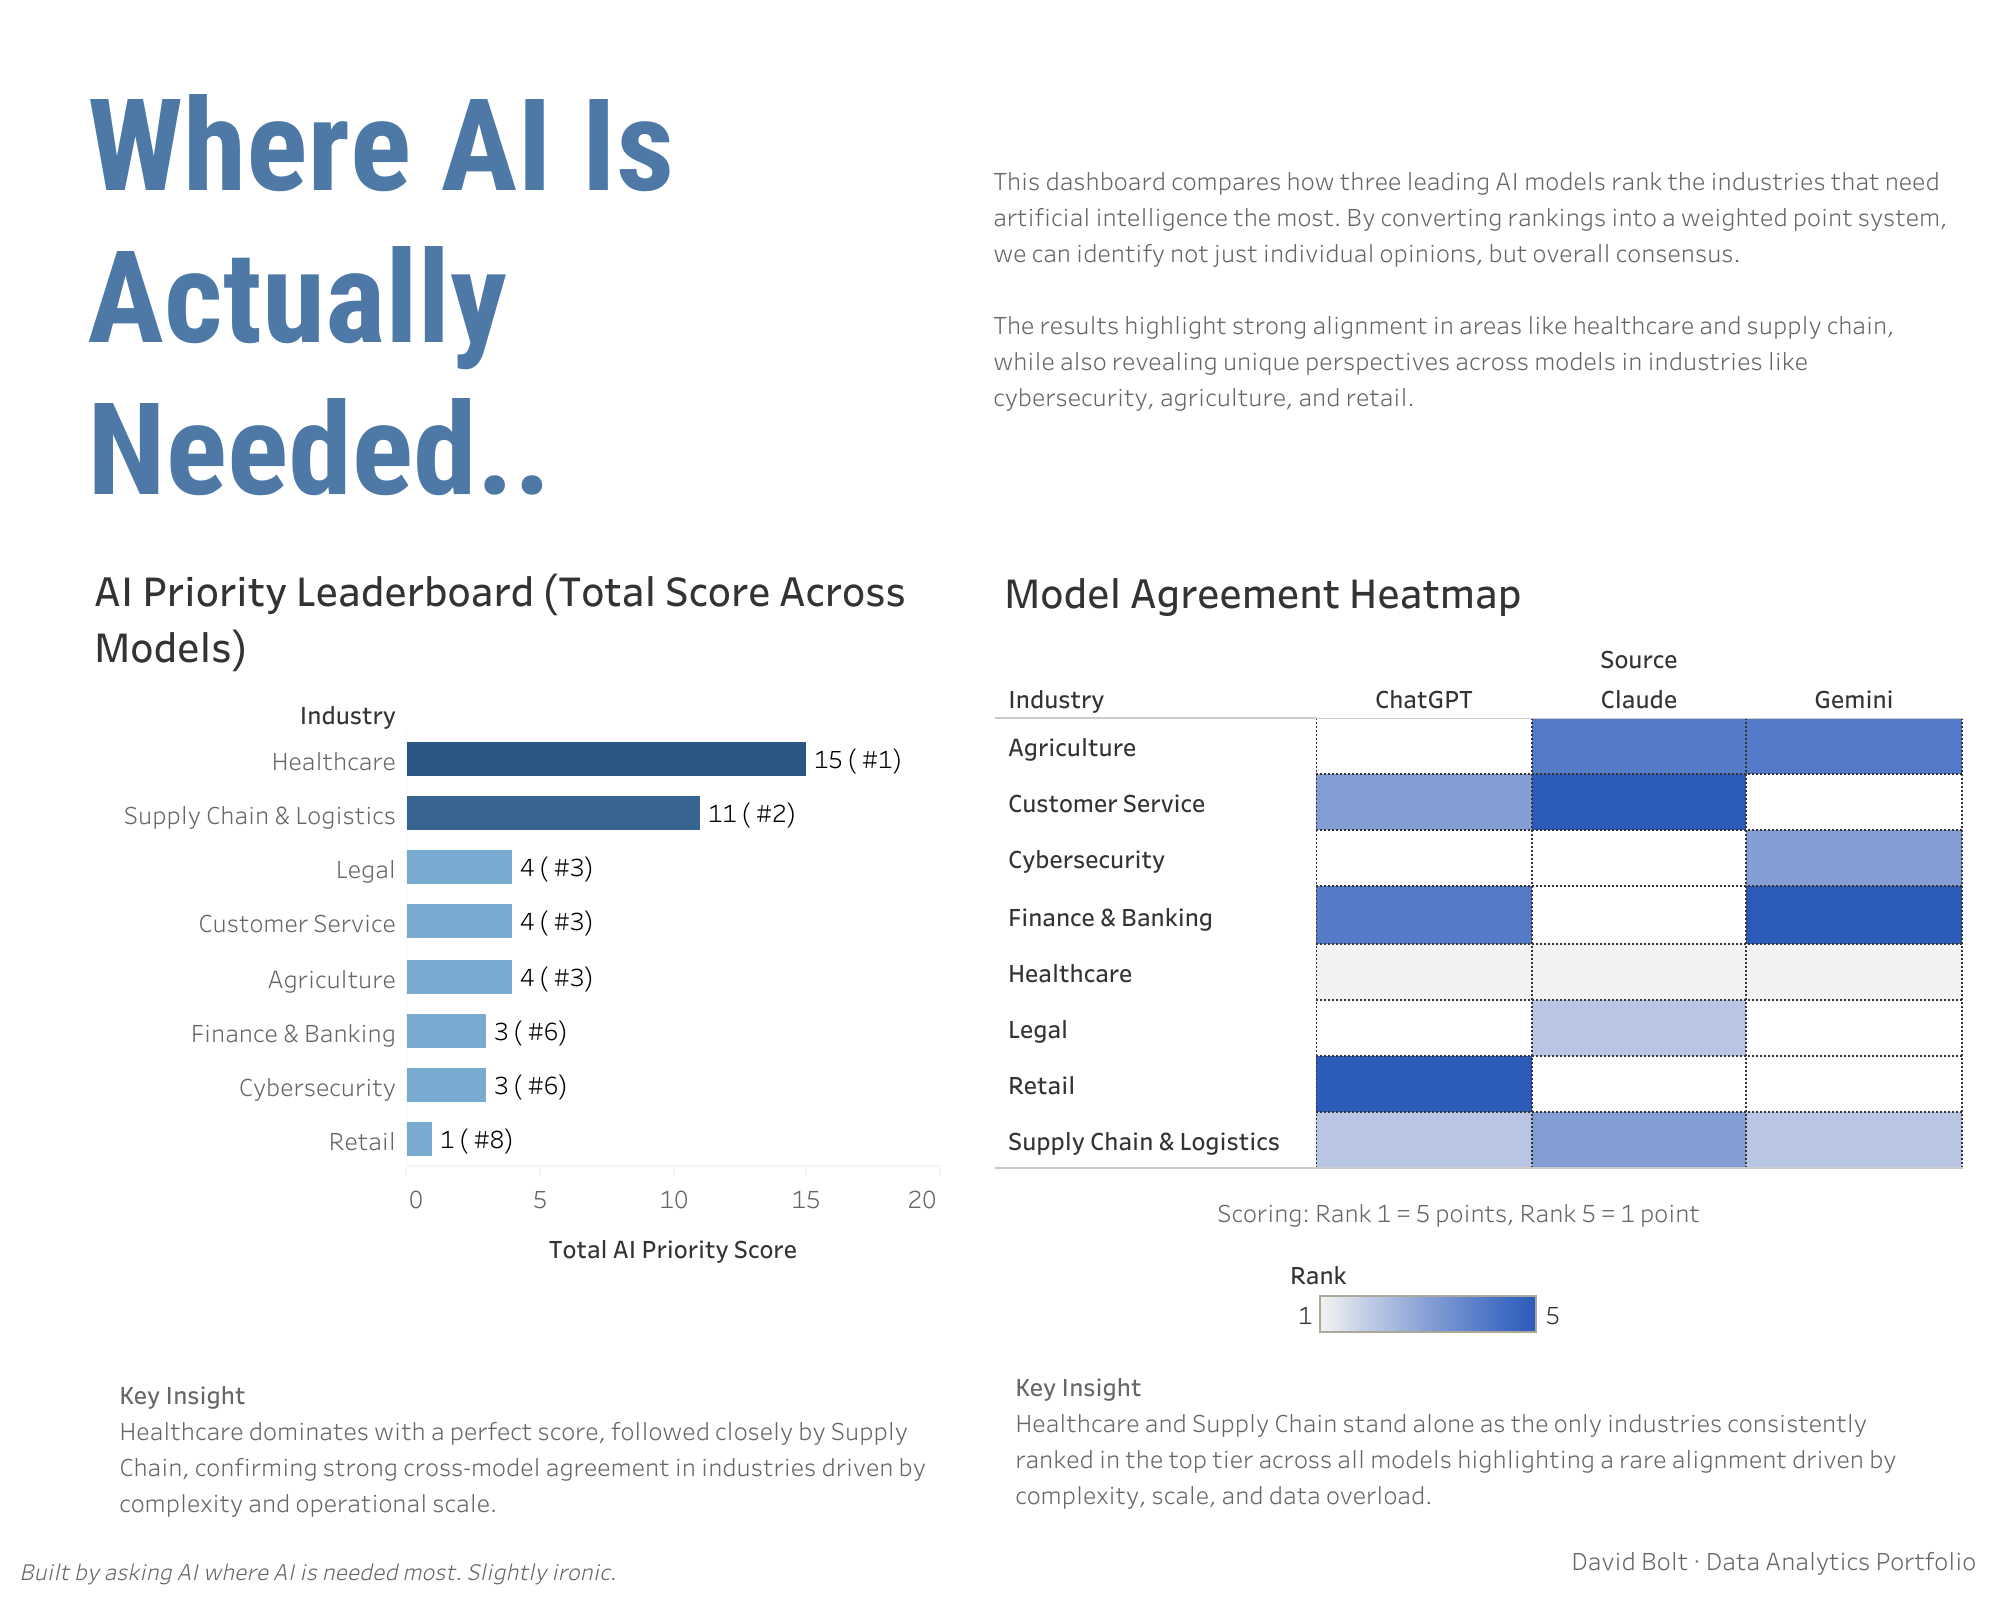

The dashboard page shown, as its layout file describes it:
{"tool":"tableau","page":{"name":"Dashboard 1","canvas":[1000,800],"ordinal":0},"visuals":[{"type":"text","box":[41,27,420,244]},{"type":"text","box":[494,36,483,216]},{"type":"worksheet","title":"bar chart","mark":"Bar","rows":["Industry"],"cols":["Points"],"box":[43,275,427,365]},{"type":"worksheet","title":"heat map","mark":"Automatic","rows":["Industry"],"cols":["Source"],"box":[498,276,484,309]},{"type":"text","box":[606,591,247,30]},{"type":"legend","title":"heat map","param":"[federated.0vanhe00ep28cu17hupwt1uz055i].[sum:Rank:qk]","box":[645,624,140,50]},{"type":"text","box":[505,666,459,108]},{"type":"text","box":[57,686,421,76]},{"type":"text","box":[783,765,208,30]},{"type":"text","box":[7,770,331,30]}]}

Visuals, with their boxes in screenshot pixels (x1, y1, x2, y2), scaled from the page's 1000x800 canvas onto the 1998x1598 screenshot:
text: l=82, t=54, r=921, b=541
text: l=987, t=72, r=1952, b=503
"bar chart" worksheet (Bar marks): l=86, t=549, r=939, b=1278
"heat map" worksheet: l=995, t=551, r=1962, b=1169
text: l=1211, t=1181, r=1704, b=1240
"heat map" legend: l=1289, t=1246, r=1568, b=1346
text: l=1009, t=1330, r=1926, b=1546
text: l=114, t=1370, r=955, b=1522
text: l=1564, t=1528, r=1980, b=1588
text: l=14, t=1538, r=675, b=1597
